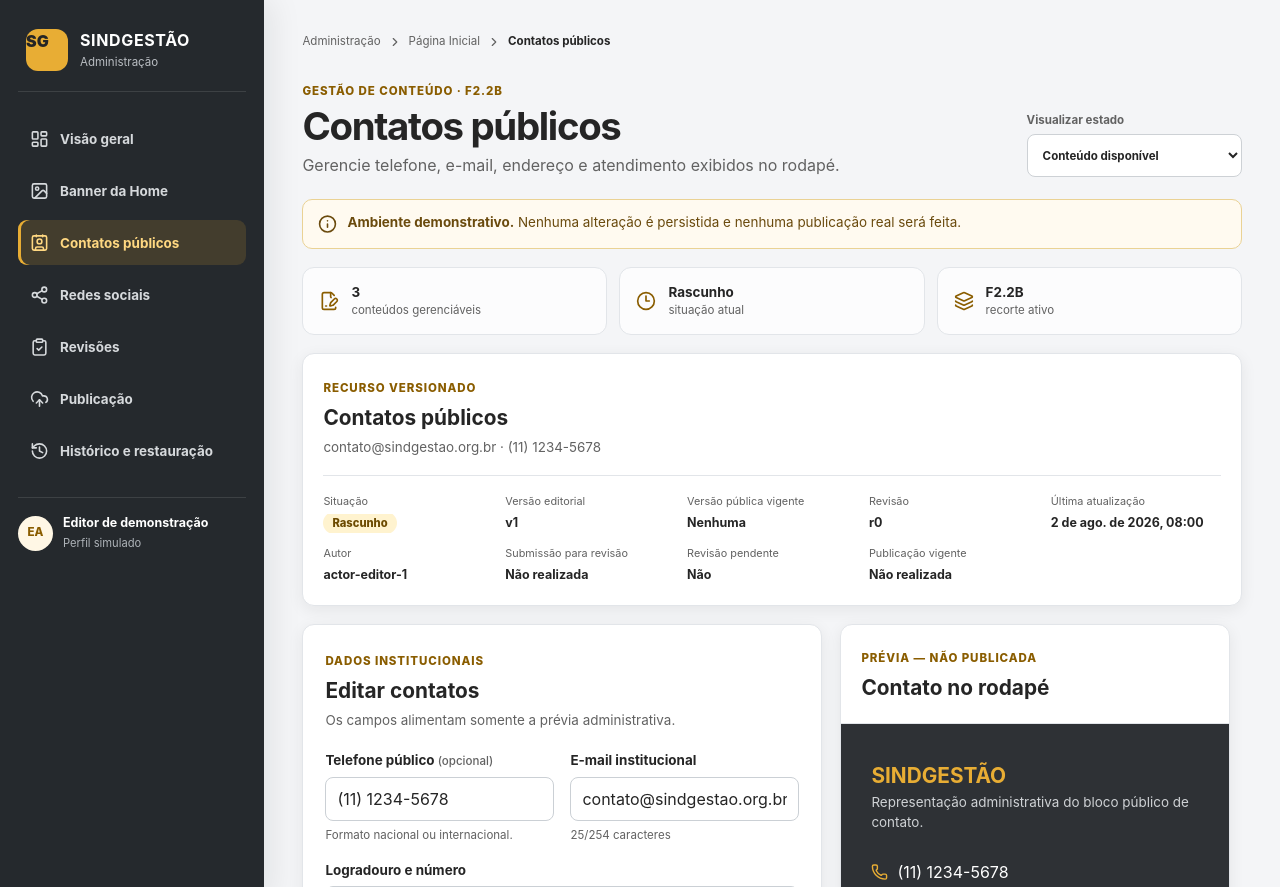
F2.2B contacts editor › masks a national phone
The image size is (1280, 887).
Replace the text in the field labelled "Telefone público" with "65999990000": (440, 799) 325,777 -> 554,821
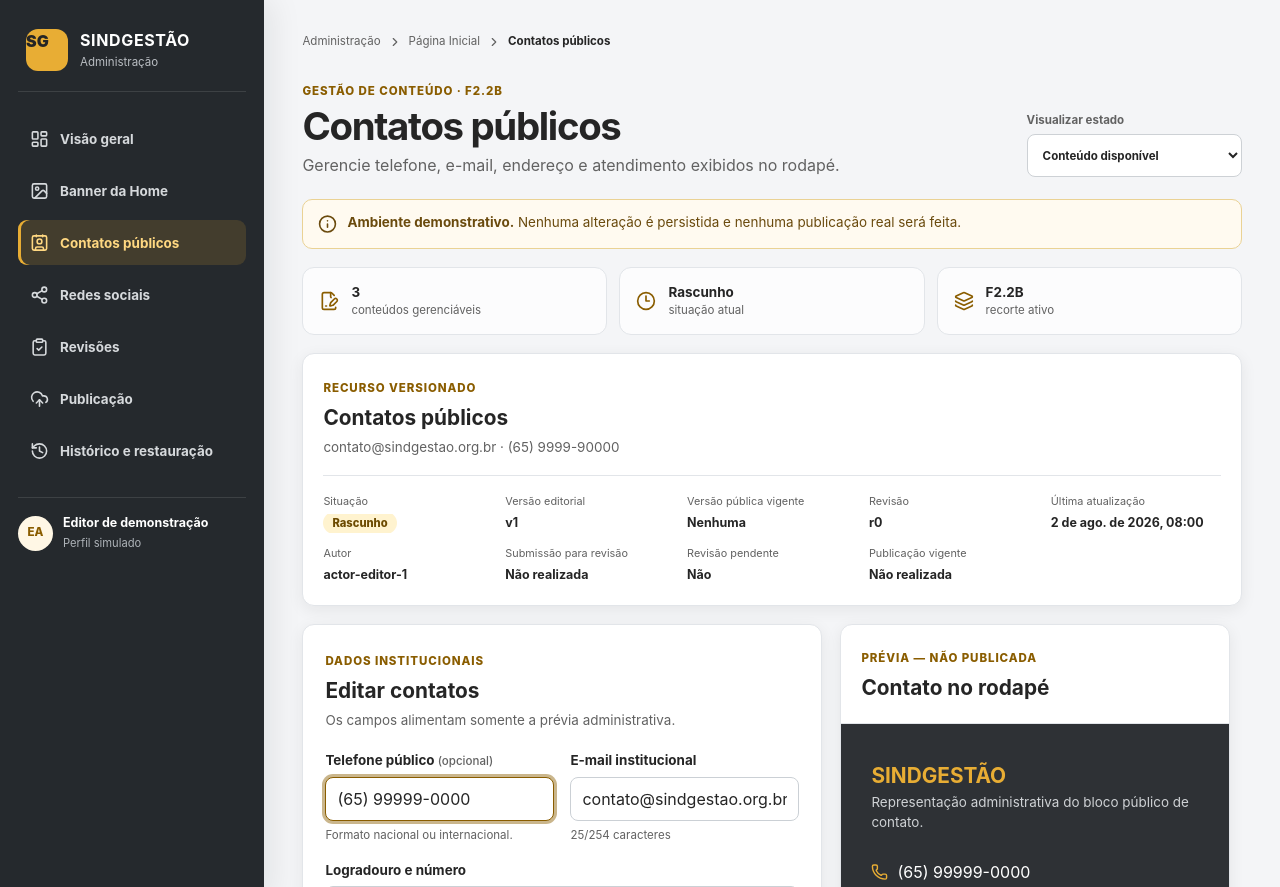
Now the field labelled "Telefone público" holds "(65) 99999-0000", box 325,777 -> 554,821
